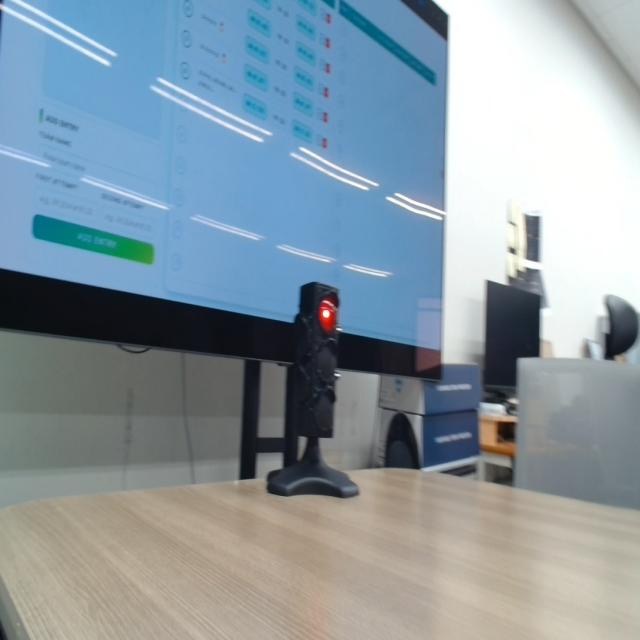red_light: (319, 299, 337, 333)
